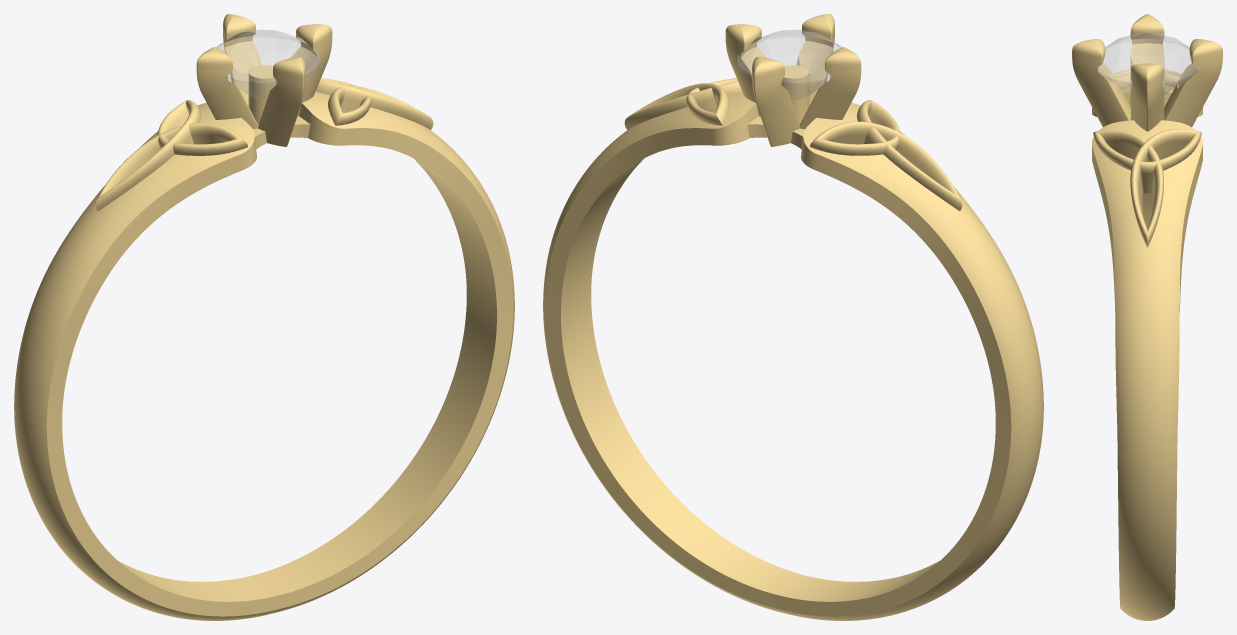
3 views of the same model, side by side, from view 1: azimuth 30°, elevation 25°; view 2: azimuth 150°, elevation 25°; view 3: azimuth 270°, elevation 25° (orthographic). The views are drawn at different scales.
Visible parts, largest first — view 1: metal, stone; view 2: metal, stone; view 3: metal, stone.
Boxes of the visible parts, box(x1,y1,x2,y2) form: metal: box(14, 14, 514, 620); stone: box(216, 30, 320, 99); metal: box(543, 14, 1043, 620); stone: box(737, 30, 841, 99); metal: box(1072, 14, 1222, 620); stone: box(1095, 33, 1199, 94).
Bounding box in the file's own units: 0.021 × 0.0235 × 0.0058.
